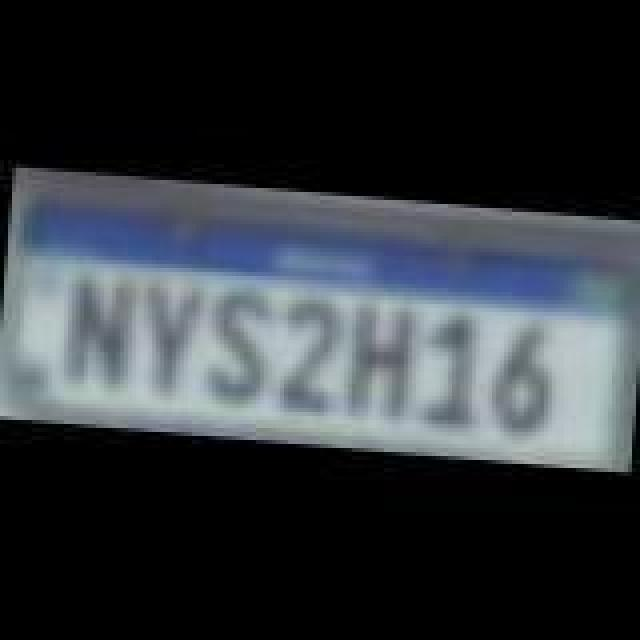1: (412, 306, 484, 430)
2: (276, 292, 348, 412)
6: (482, 318, 558, 434)
H: (342, 294, 418, 426)
N: (62, 268, 138, 388)
S: (202, 288, 278, 408)
Y: (134, 276, 202, 396)
